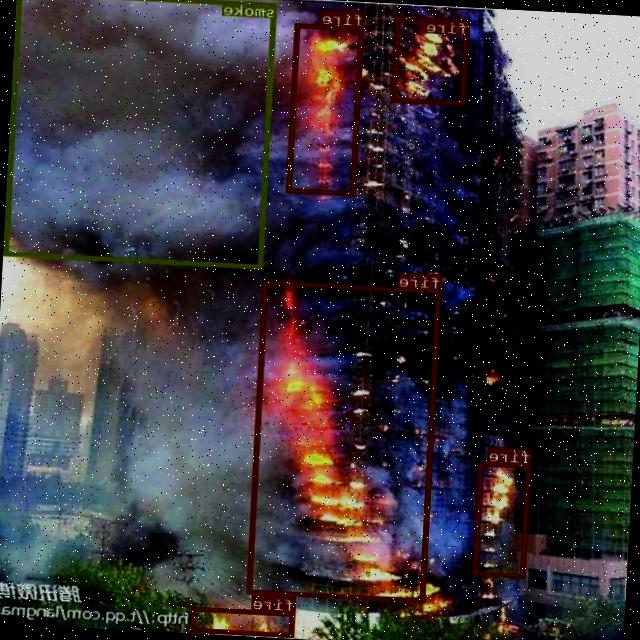fire: (248, 280, 442, 602), (288, 23, 365, 195), (393, 15, 471, 105), (473, 461, 532, 578), (191, 606, 295, 637)
smoke: (5, 0, 279, 268)
